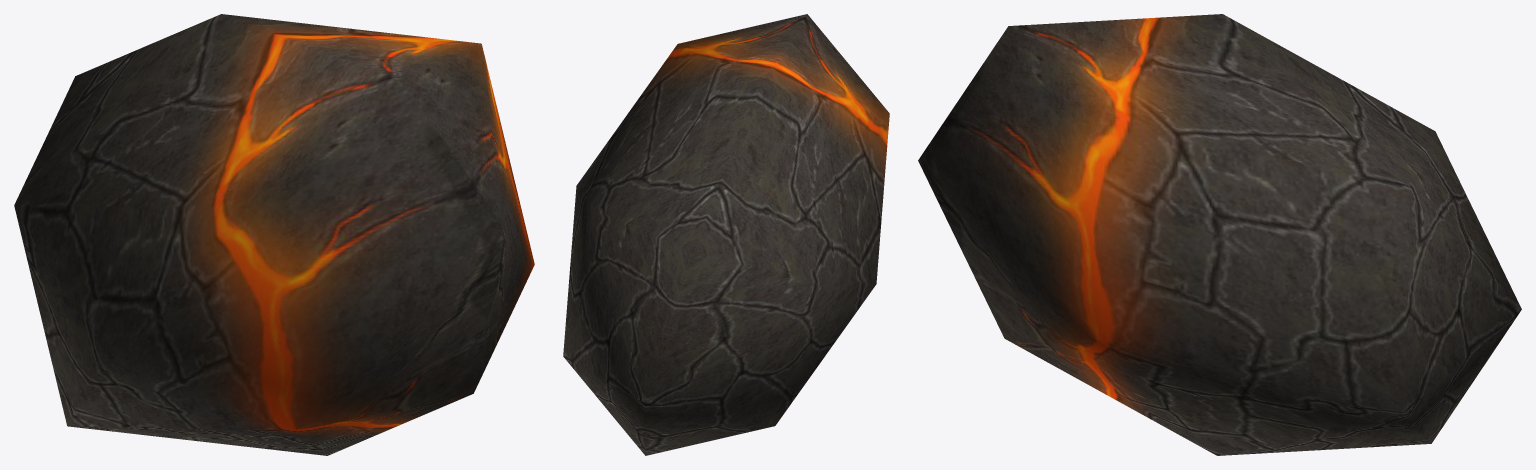
File: stone_20.obj
3 views of the same model, side by side, from view 1: azimuth 30°, elevation 25°; view 2: azimuth 150°, elevation 25°; view 3: azimuth 270°, elevation 25° (orthographic). The views are drawn at different scales.
Visible parts, largest first — view 1: (null); view 2: (null); view 3: (null).
Part boxes in pixels (x1=…): (null): x1=14, y1=14, x2=534, y2=455; (null): x1=563, y1=14, x2=889, y2=455; (null): x1=918, y1=14, x2=1521, y2=455.
Bounding box in the file's own units: 1.14 × 1.34 × 1.76.
